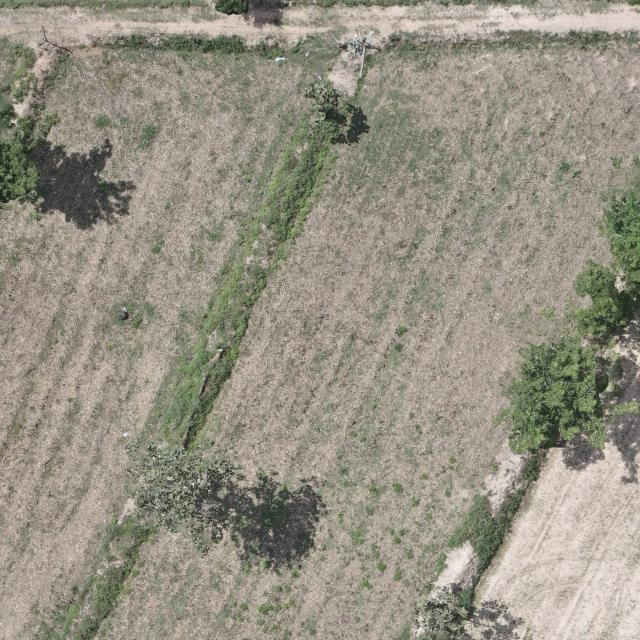Tree: (123, 434, 246, 562), (504, 331, 616, 456), (0, 106, 63, 206), (567, 257, 640, 337), (596, 188, 640, 287), (410, 574, 473, 640), (303, 79, 344, 125), (215, 0, 250, 17)
